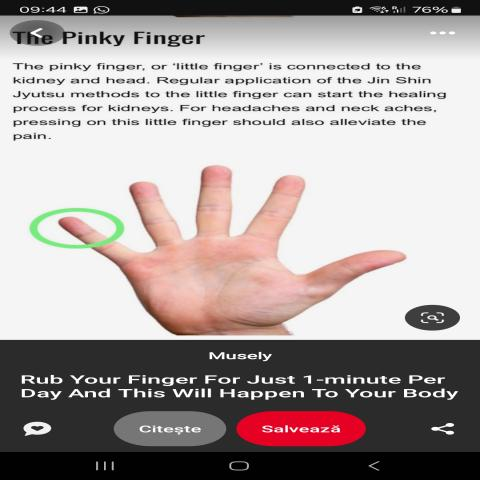hands: (7, 150, 440, 337)
